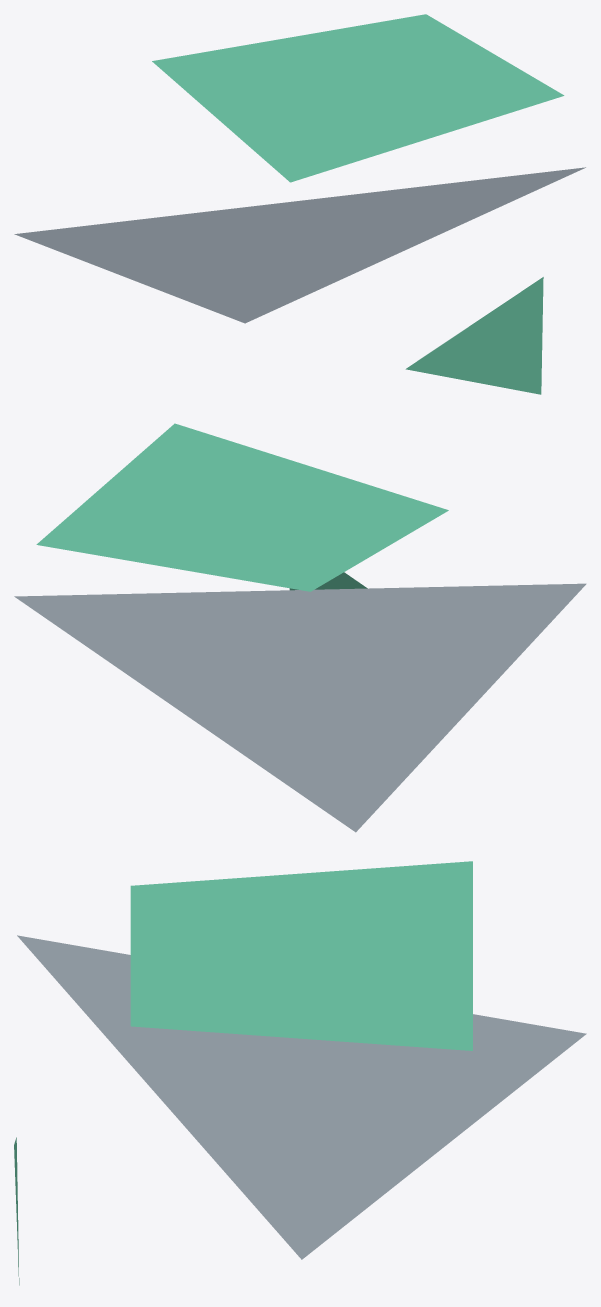
File: CO_MCV_MobileNode_LOD2.glb
3 views of the same model, one above another, from view 1: azimuth 30°, elevation 25°; view 2: azimuth 150°, elevation 25°; view 3: azimuth 270°, elevation 25° (orthographic). The views are drawn at different scales.
Parts seen in each view (by area): view 1: EntranceGate; view 2: EntranceGate; view 3: EntranceGate.
Part boxes in pixels (x1,y1,x2,y2): EntranceGate: (14,14,585,394); EntranceGate: (14,423,586,832); EntranceGate: (14,861,586,1285).
Bounding box in the file's own units: 800 × 417 × 703.
